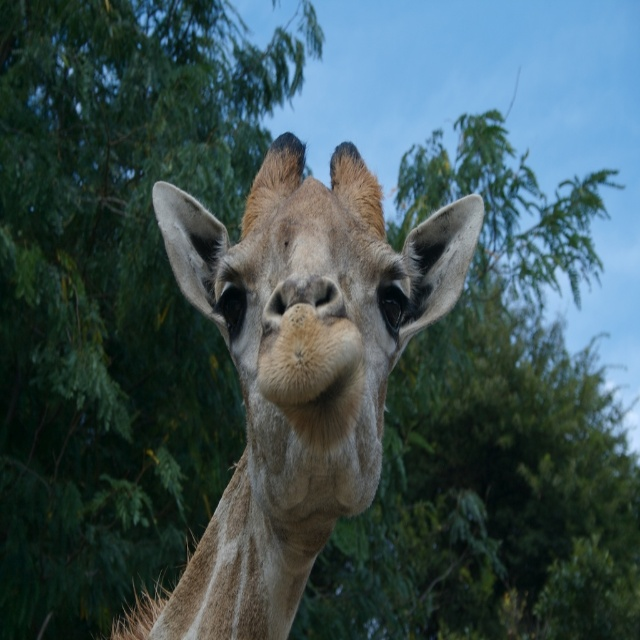Giraffe: (95, 132, 486, 639)
